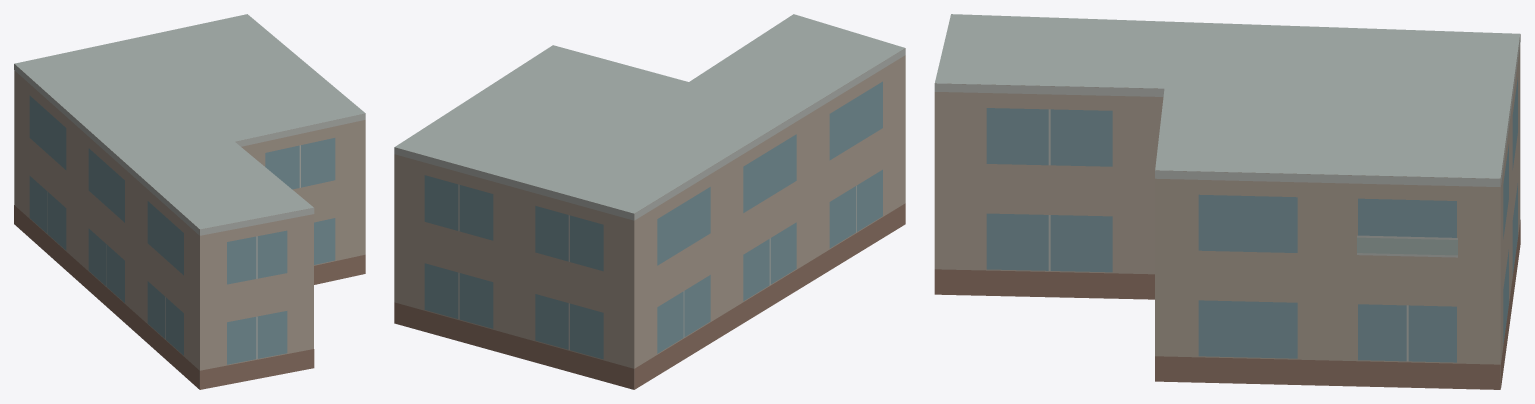
Rendered from survey-upis-32768216.glb.
3 renders of one model, left to right at view 1: azimuth 30°, elevation 25°; view 2: azimuth 150°, elevation 25°; view 3: azimuth 270°, elevation 25°, orthographic. The views are drawn at different scales.
Parts seen in each view (by area): view 1: survey-upis-32768216.tmp; view 2: survey-upis-32768216.tmp; view 3: survey-upis-32768216.tmp.
Boxes of the visible parts, <box> form: survey-upis-32768216.tmp: <box>14,14,365,389</box>; survey-upis-32768216.tmp: <box>394,14,905,389</box>; survey-upis-32768216.tmp: <box>934,14,1520,389</box>.
Bounding box in the file's own units: 10.22 × 6.1 × 15.35.
